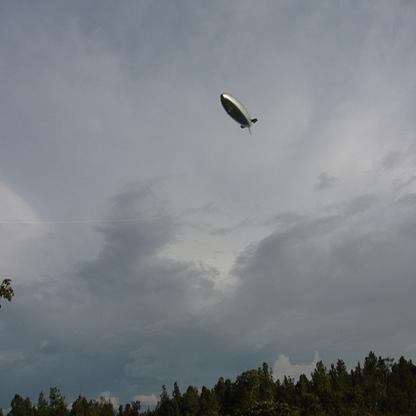Airship: (214, 90, 261, 135)
